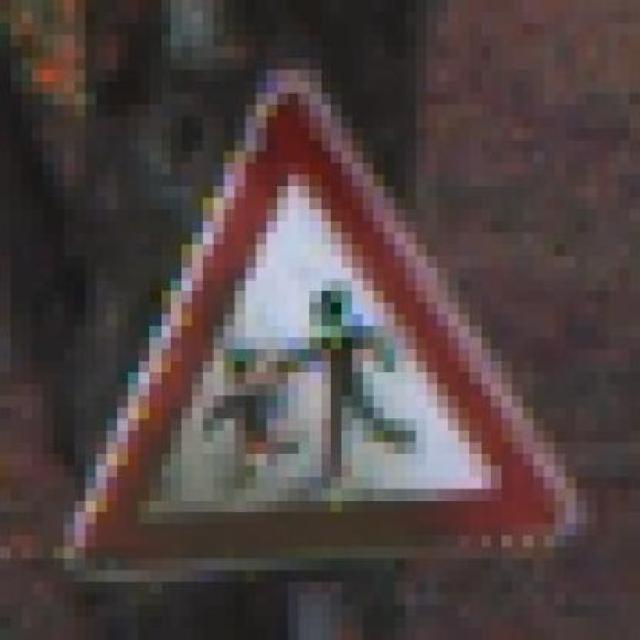Beware of children: (64, 46, 587, 582)
